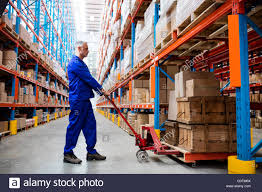Pallet Jack: (98, 89, 230, 169)
